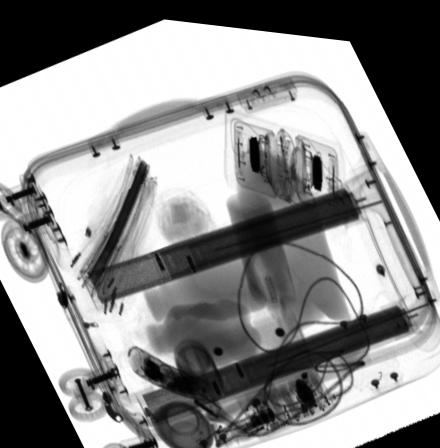Baton: (127, 340, 210, 393)
